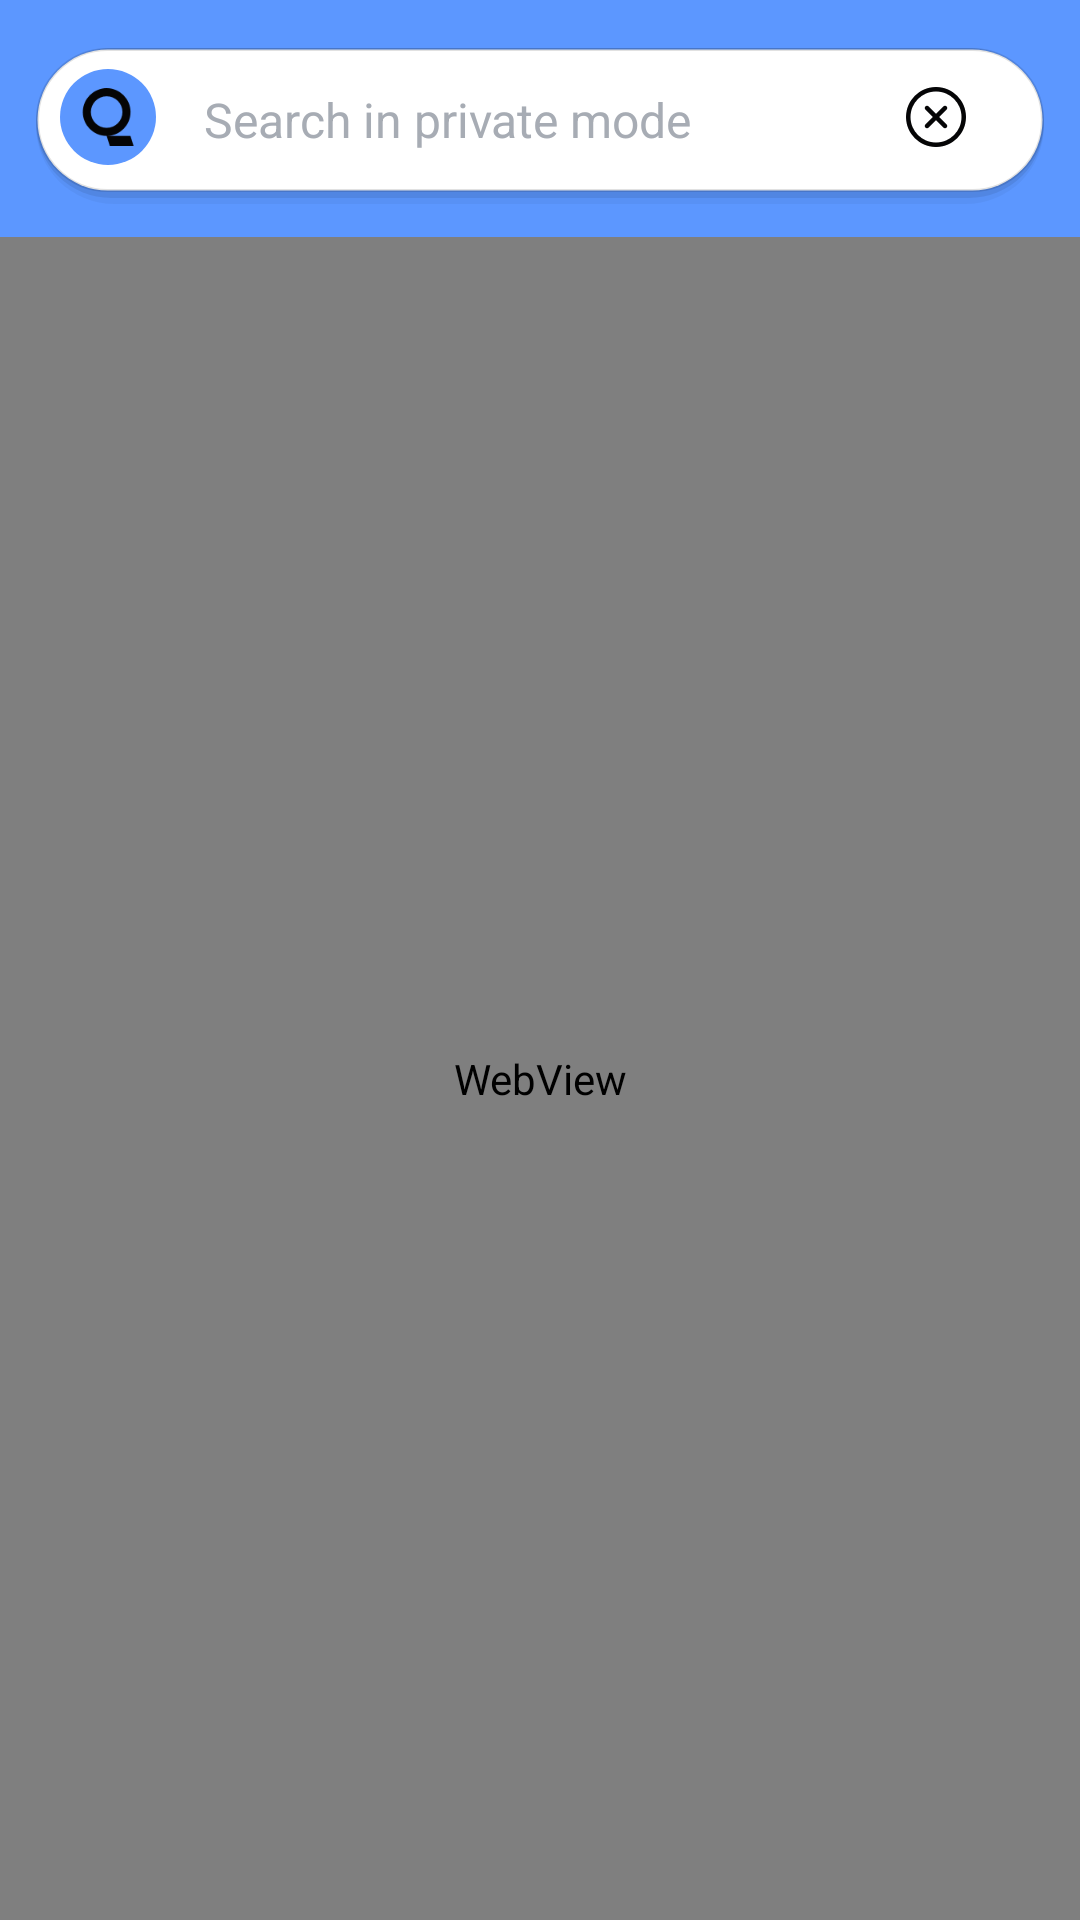

Icons on this 1080×1920 Android screen, each with the point to tap as (x,y):
assist close circled: (936,117)
